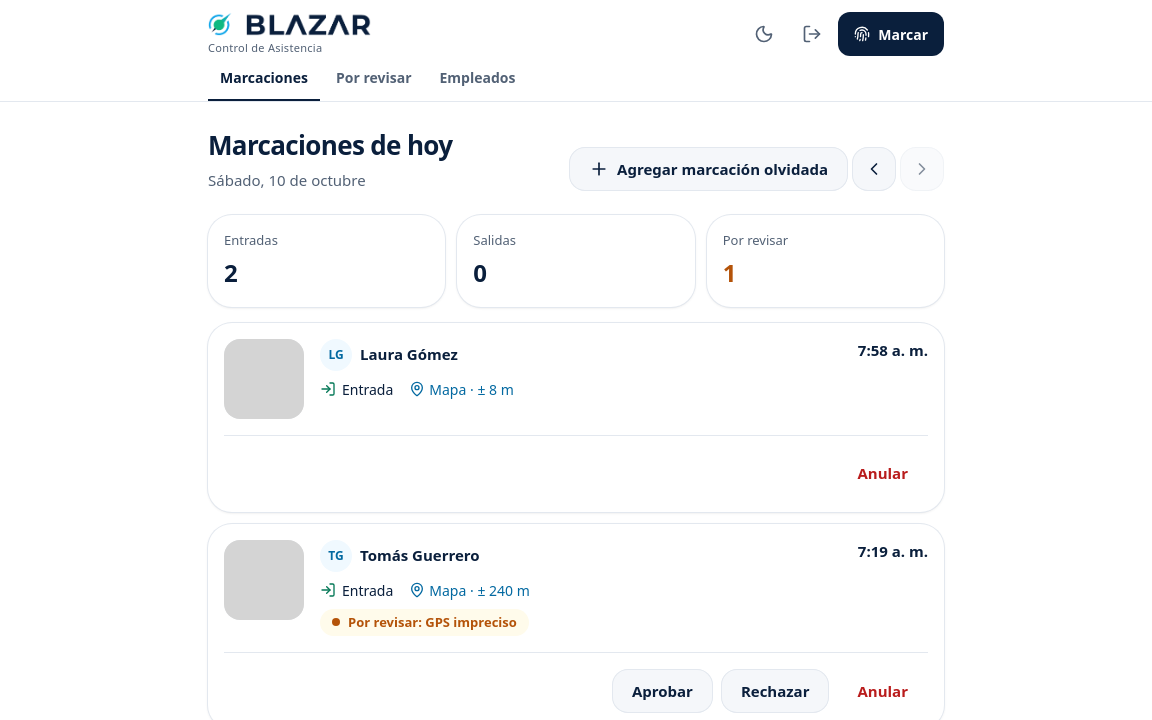
Scenario: Marcaciones de hoy (administrador, datos reales) › si el servidor no acepta la corrección, explica por qué y no cierra
The image size is (1152, 720).
Click the button "Anular" below "7:58 a. m.": (883, 474) [838,452,928,496]
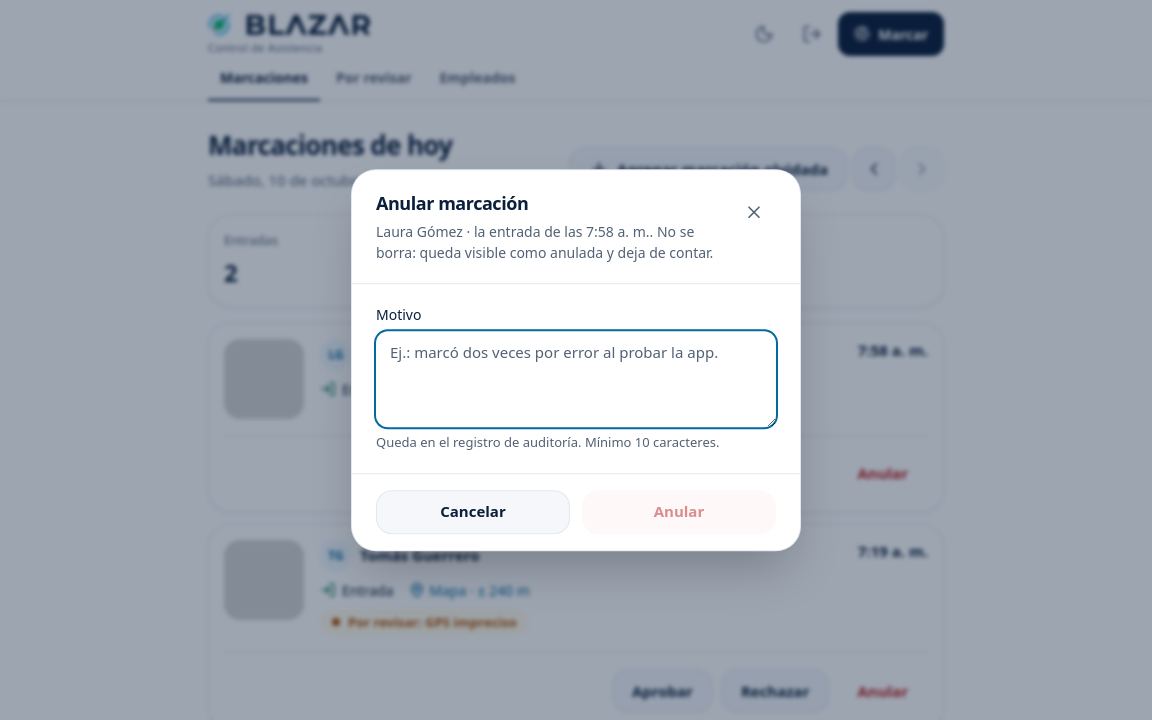
In the text box labelled "Motivo": (576, 379) [376,331,776,427], type "Marcó por error al probar la app."
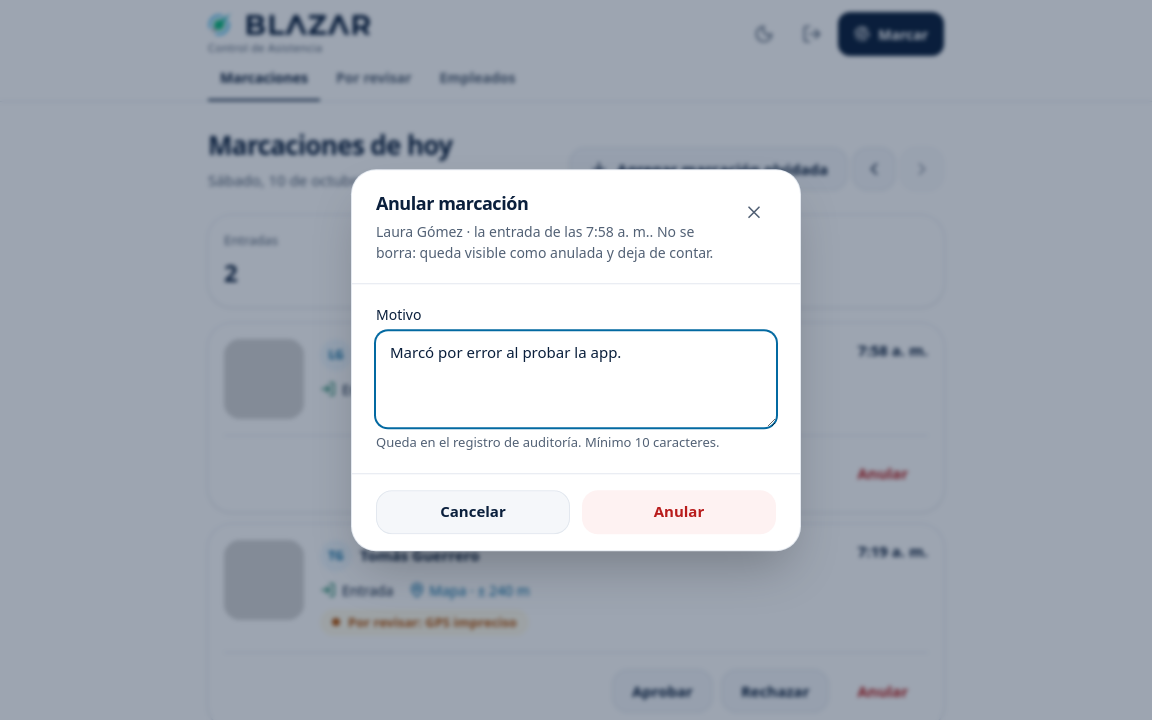
Click the button "Anular": (679, 512) [582,490,776,534]
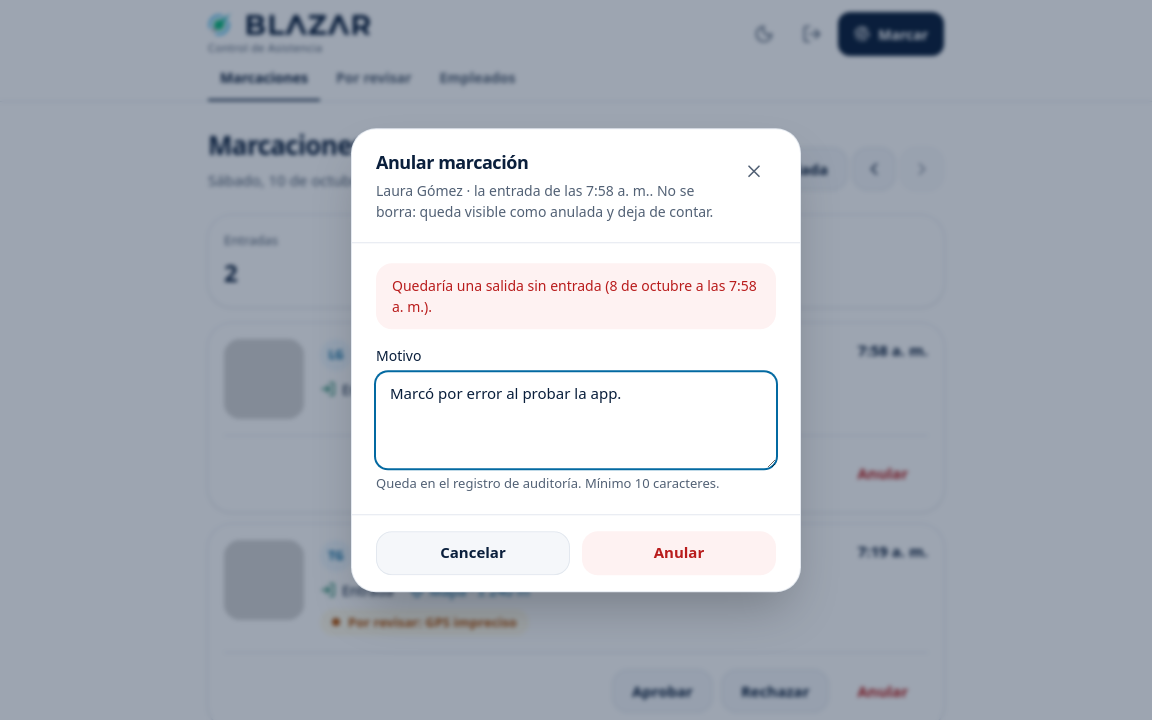
Result: the message shows "salida sin entrada" at [392,276,757,316]
